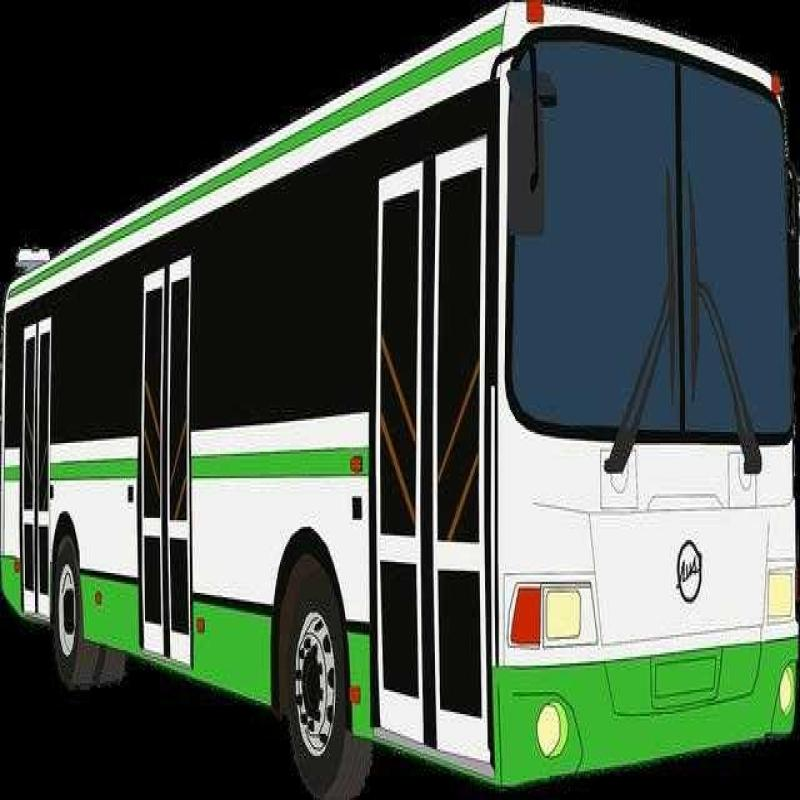bus: (10, 15, 800, 800)
